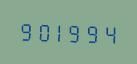four: (103, 21, 119, 45)
nine: (86, 20, 102, 45), (17, 18, 33, 42), (69, 20, 85, 44)
one: (52, 19, 68, 43)
zero: (34, 18, 50, 43)
